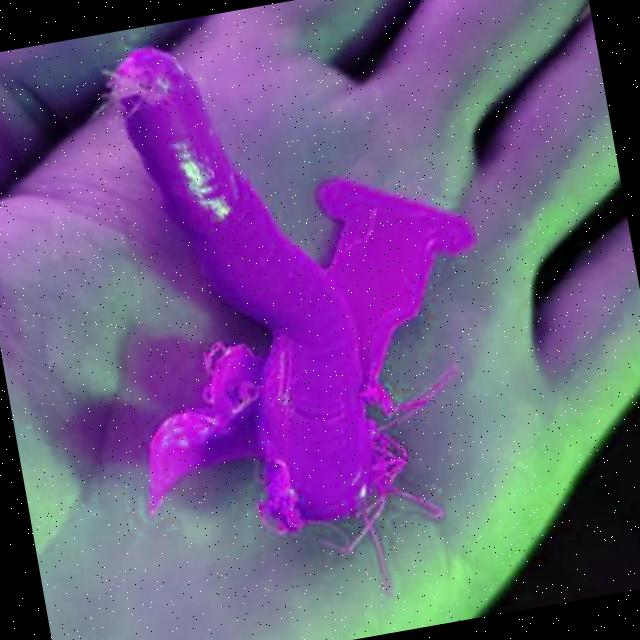spaghetti: (189, 296, 492, 619)
